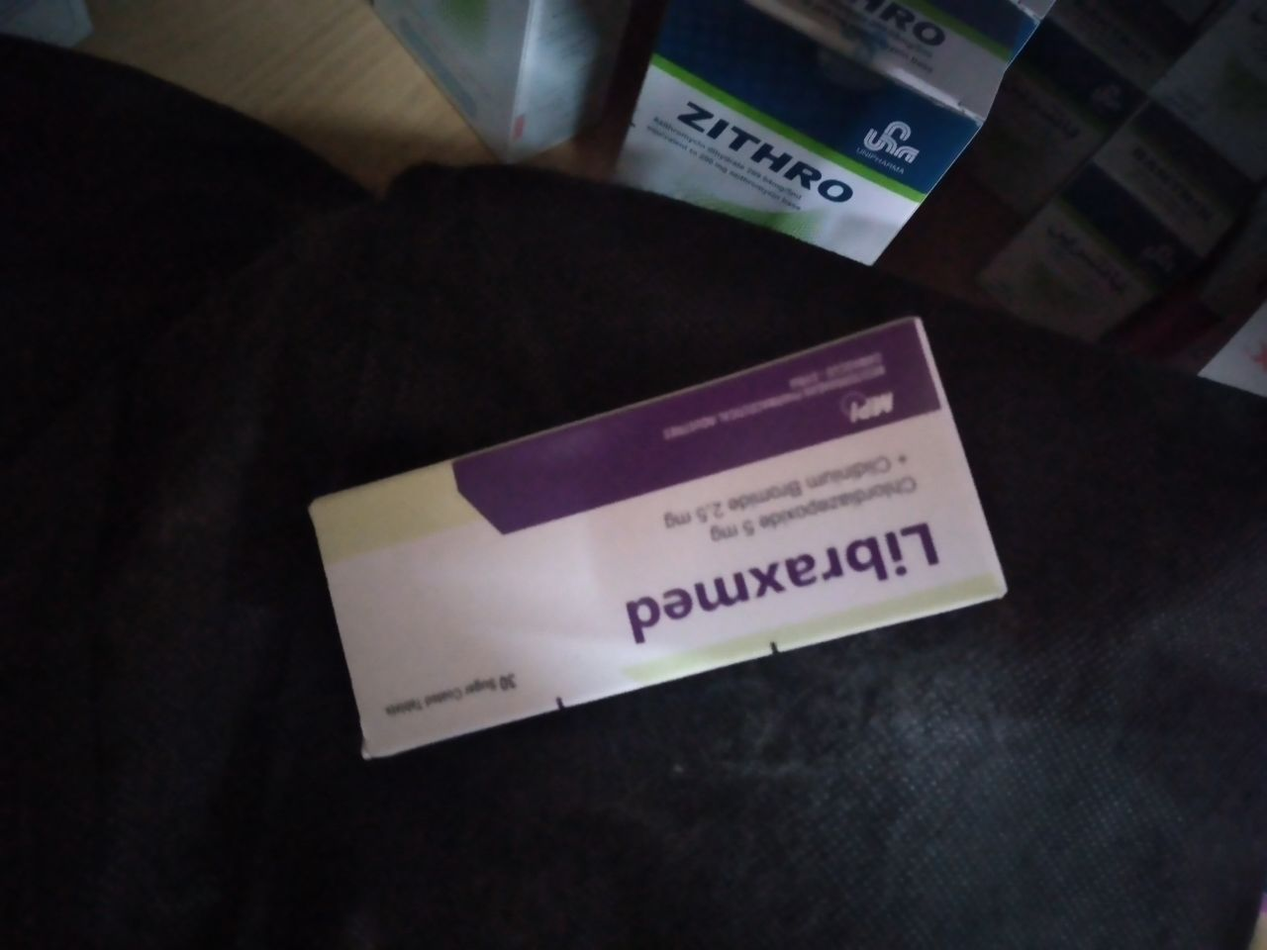Medicine: (309, 312, 1020, 764)
